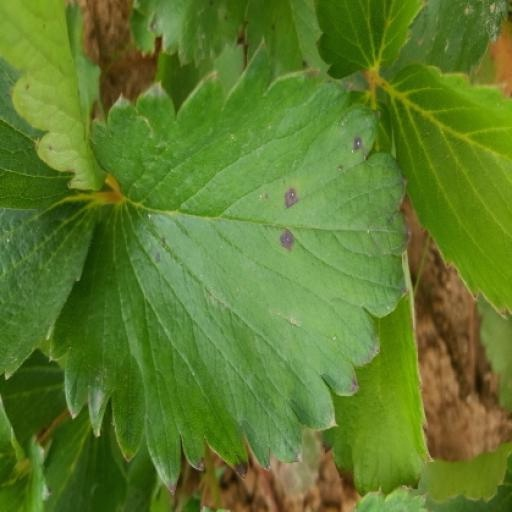Leaf Spot: (98, 14, 466, 478), (180, 425, 269, 511)
